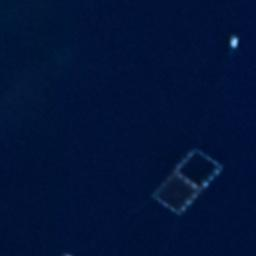square_solid: (148, 168, 204, 218), (171, 144, 225, 195)
